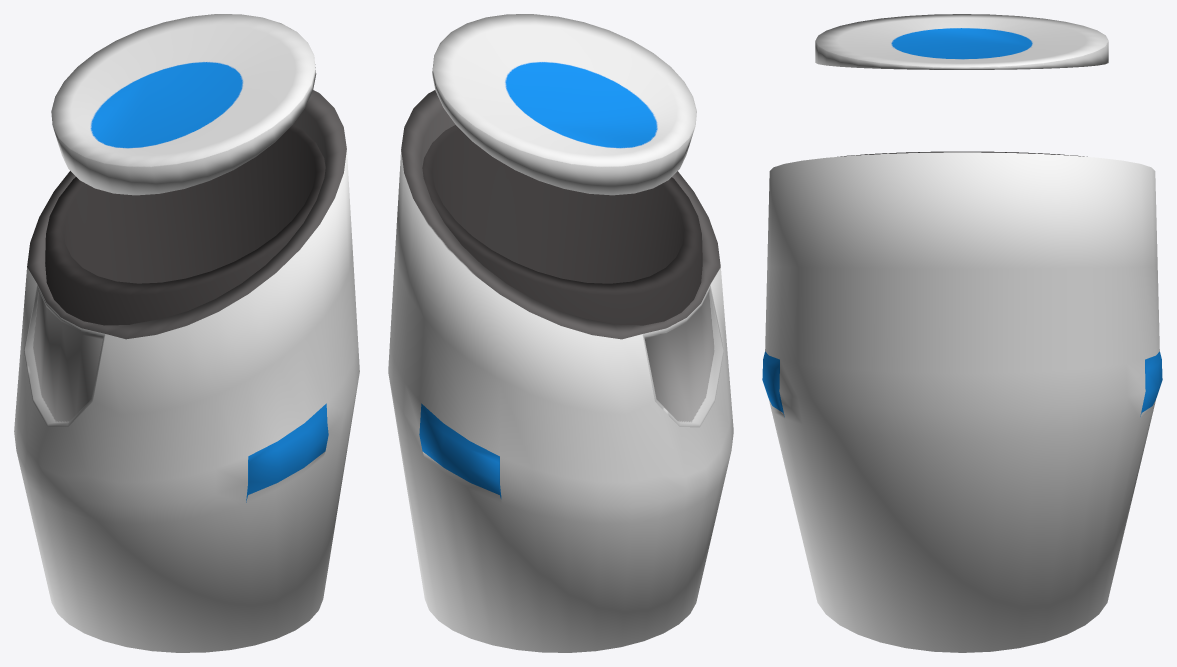
Rendered from Basura.fbx.
3 renders of one model, left to right at view 1: azimuth 30°, elevation 25°; view 2: azimuth 150°, elevation 25°; view 3: azimuth 270°, elevation 25°, orthographic. The views are drawn at different scales.
Parts seen in each view (by area): view 1: BaseGrande, Tapa, BasePequeña; view 2: BaseGrande, Tapa, BasePequeña; view 3: BaseGrande, Tapa.
Boxes of the visible parts, bbox=[...] form: BaseGrande: bbox=[14, 90, 359, 652]; Tapa: bbox=[51, 14, 316, 195]; BasePequeña: bbox=[45, 125, 325, 325]; BaseGrande: bbox=[388, 90, 733, 652]; Tapa: bbox=[432, 14, 696, 195]; BasePequeña: bbox=[422, 125, 702, 325]; BaseGrande: bbox=[762, 152, 1162, 652]; Tapa: bbox=[815, 14, 1108, 69].
Size of the model in its own units: 250 by 437 by 273.
